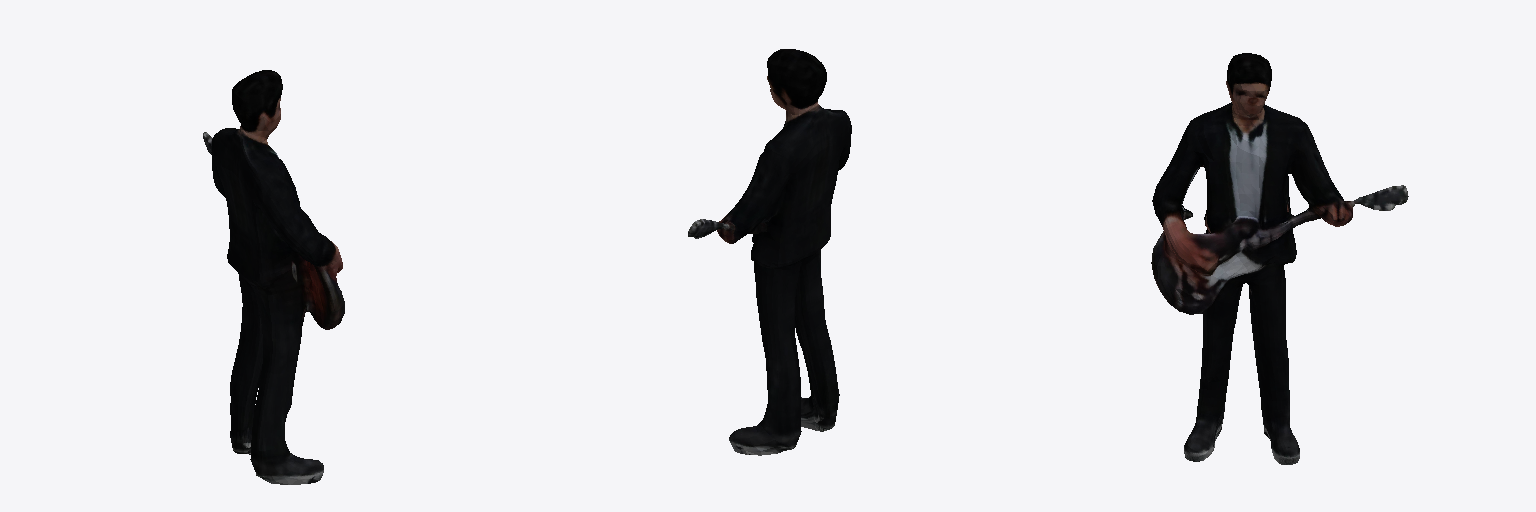
3 renders of one model, left to right at view 1: azimuth 30°, elevation 25°; view 2: azimuth 150°, elevation 25°; view 3: azimuth 270°, elevation 25°, orthographic.
Parts seen in each view (by area): view 1: mesh; view 2: mesh; view 3: mesh.
Boxes of the visible parts, x1=… form: mesh: x1=203, y1=70, x2=344, y2=484; mesh: x1=688, y1=49, x2=851, y2=455; mesh: x1=1151, y1=53, x2=1408, y2=464.
Size of the model in its own units: 0.2206 by 0.999 by 0.5945.
1 materials, 1 textured.